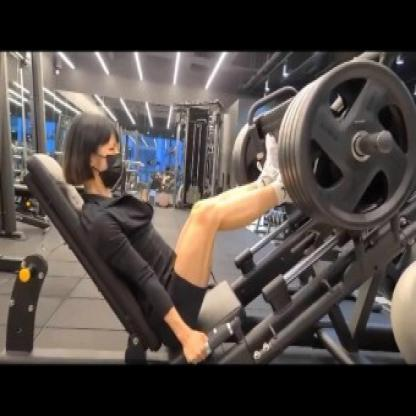leg press: (21, 50, 416, 416)
